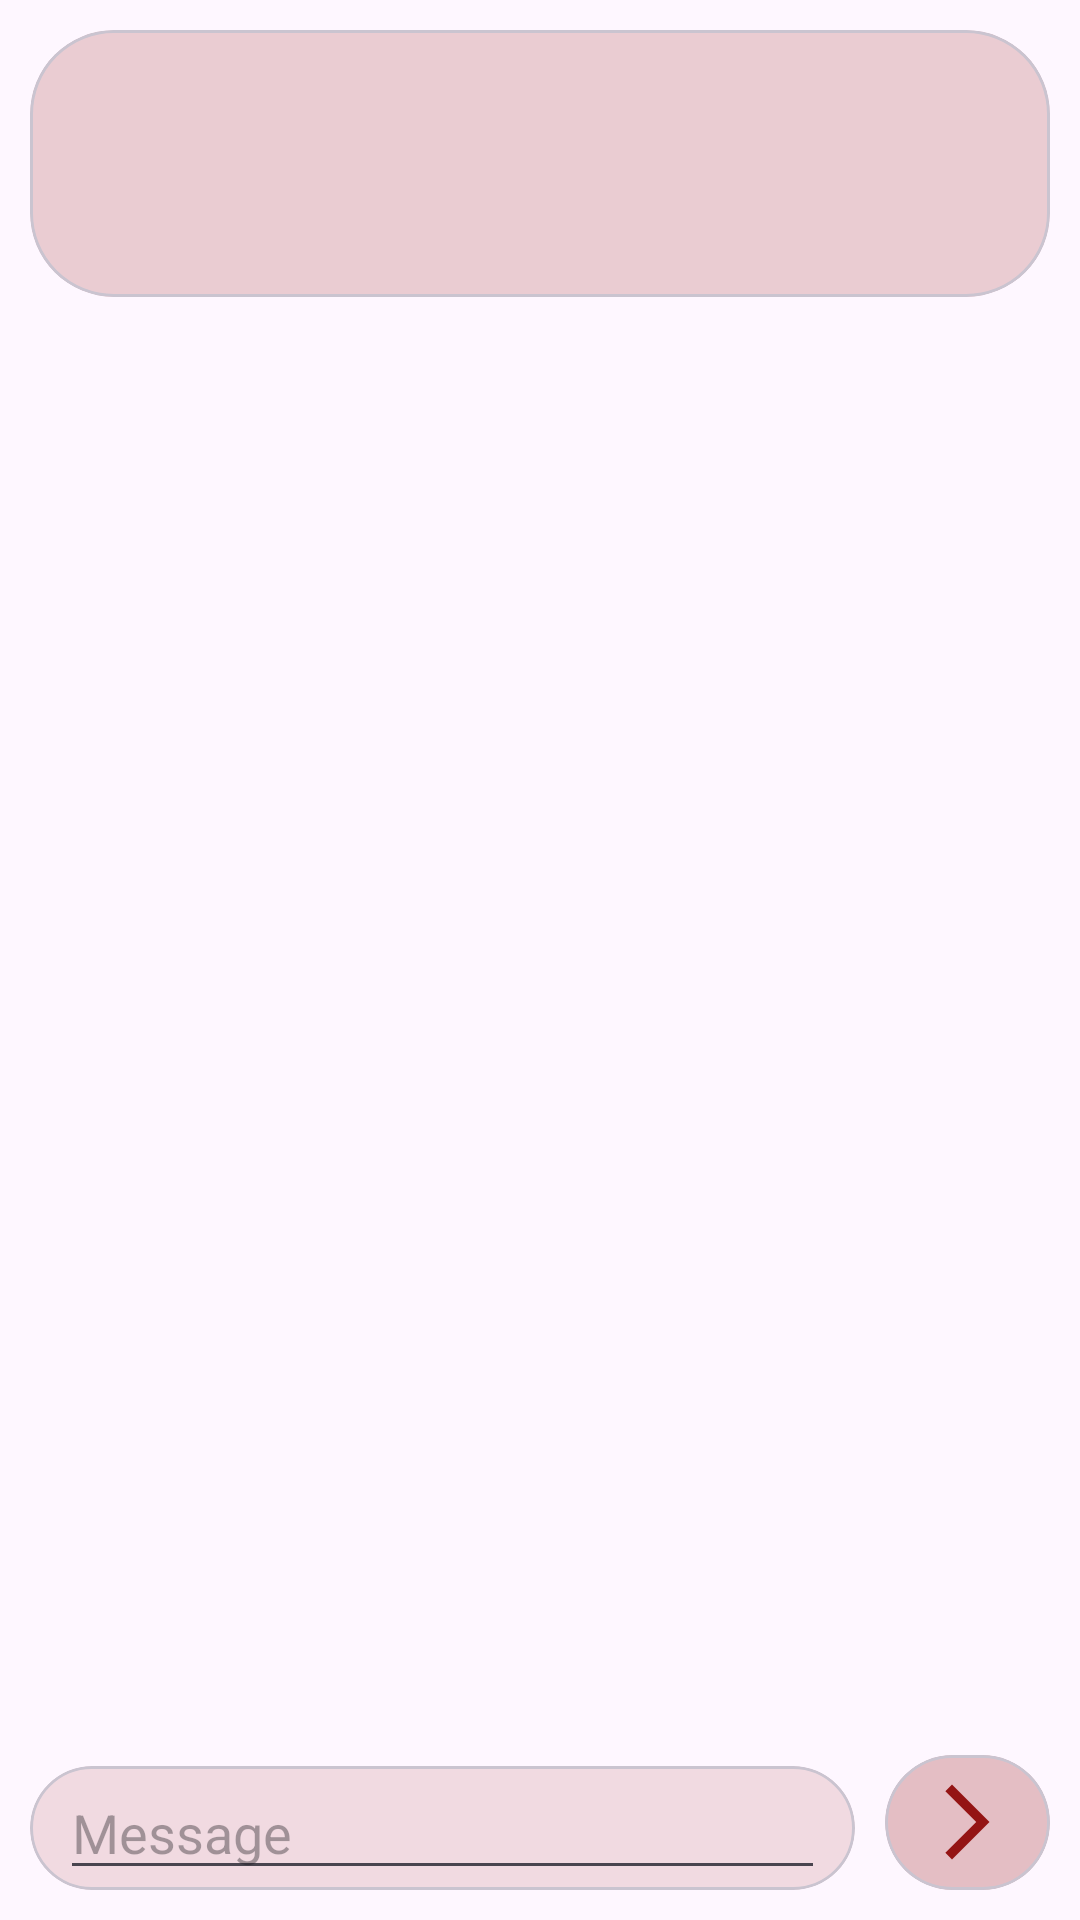

Named icons in this screenshot (1080 × 1920) and their bounding boxes, bbox(x1, y1, x2, y2):
arrow forward: bbox(945, 1785, 989, 1859)
